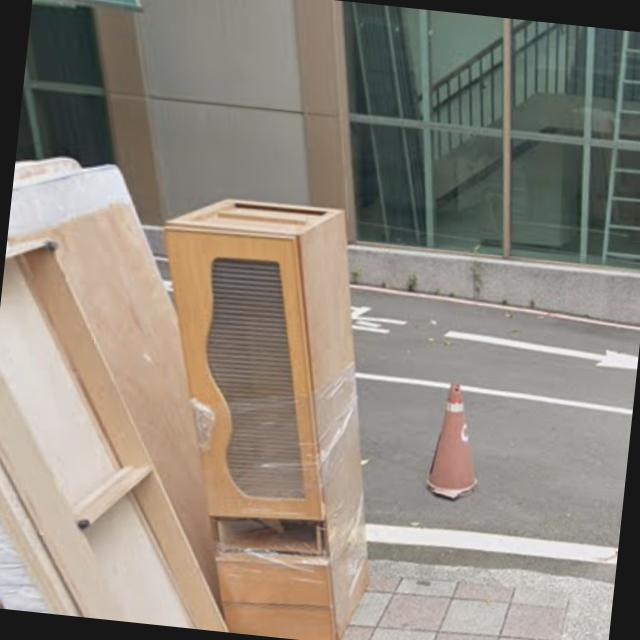cone: (423, 376, 482, 506)
